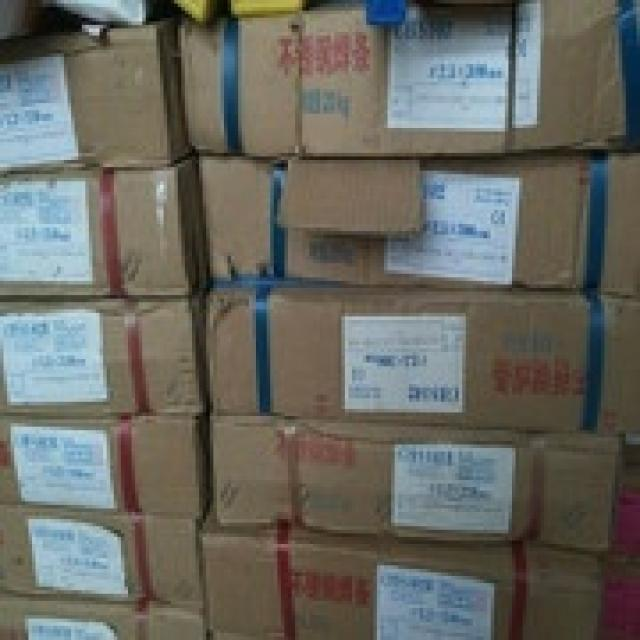box: (181, 0, 640, 156), (206, 277, 640, 434), (199, 149, 640, 288), (210, 412, 626, 551), (199, 501, 604, 640), (0, 18, 192, 174), (0, 156, 206, 299), (0, 284, 210, 420), (0, 412, 213, 519), (0, 505, 206, 612), (0, 587, 210, 640), (601, 558, 640, 640), (612, 444, 640, 558)
